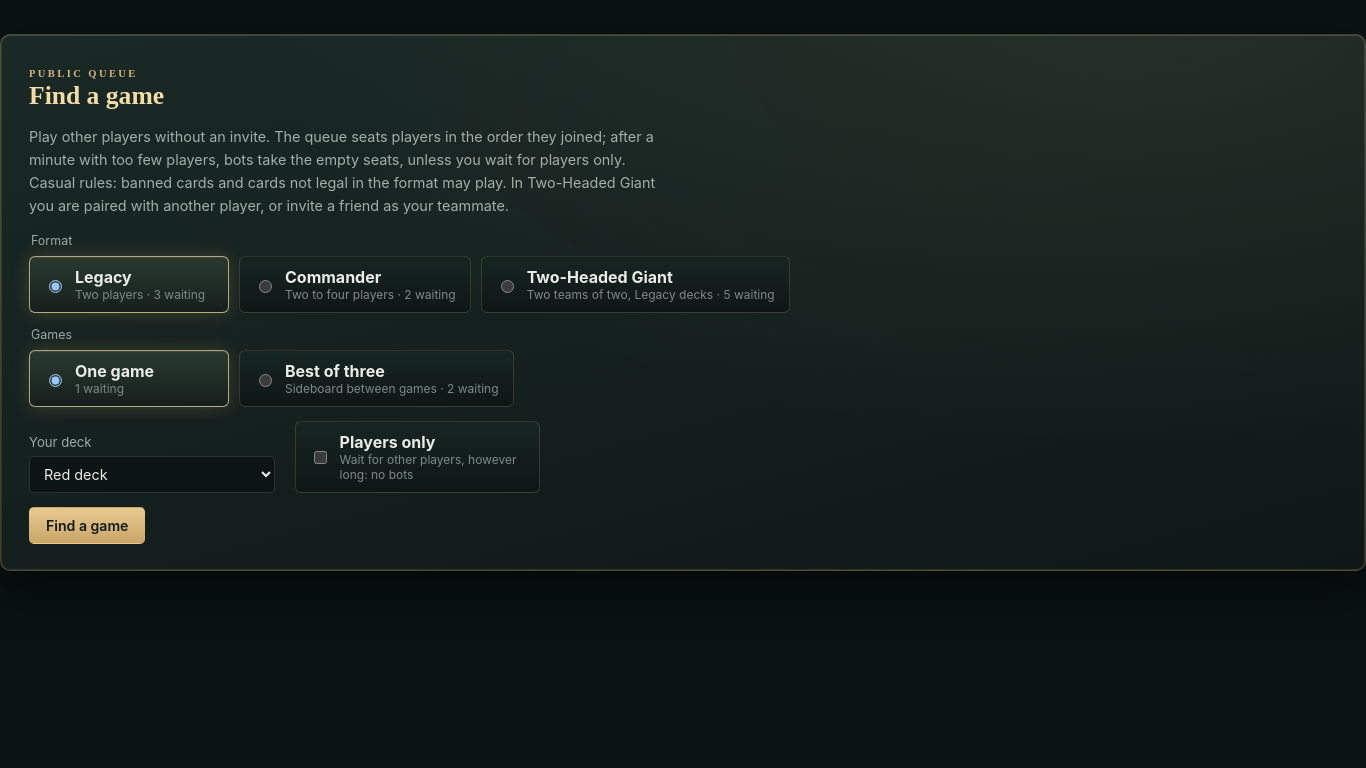
Test: finding a game › joins Legacy's best-of-three queue, a queue of its own (v0.5.0)
This screenshot has width=1366, height=768.
Expected: the radio button labelled "Legacy Two players · 3 waiting" is checked, [49,280,62,293]
Expected: the radio button labelled "One game 1 waiting" is checked, [49,374,62,387]
Click the radio button labelled "Best of three Sideboard between games · 2 waiting".
click(266, 380)  # box [259,374,272,387]
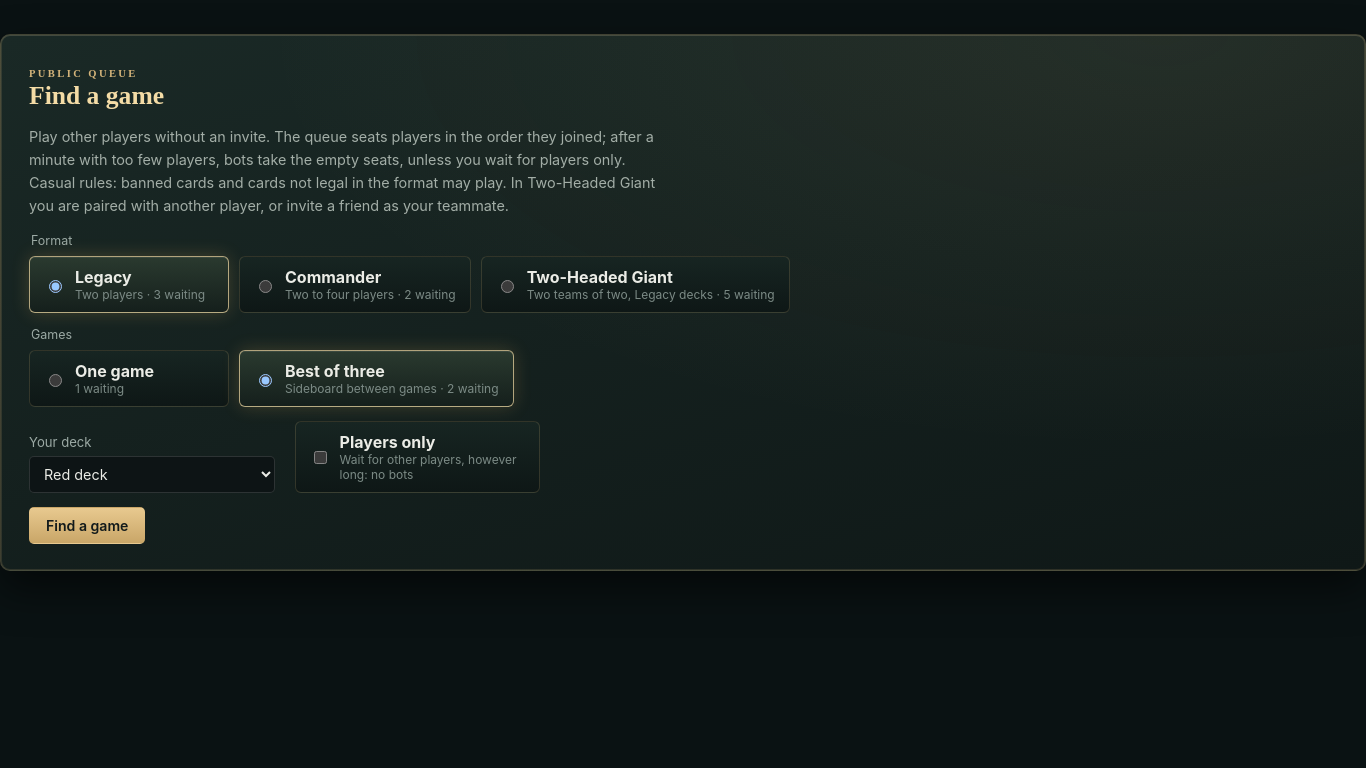
Click the button "Find a game".
click(87, 526)  # box [29,507,145,544]
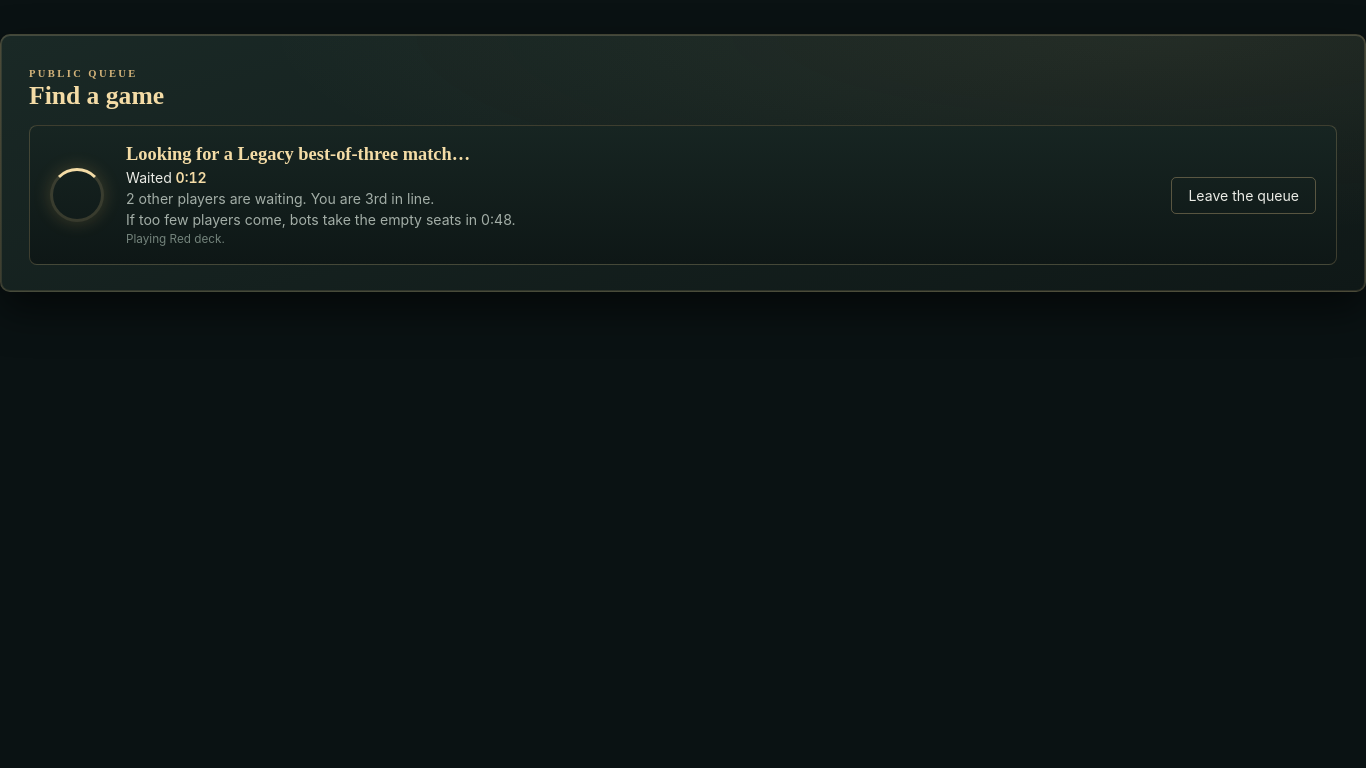
Expected: the message shows "Looking for a Legacy best-of-three match…", [126,144,516,246]
